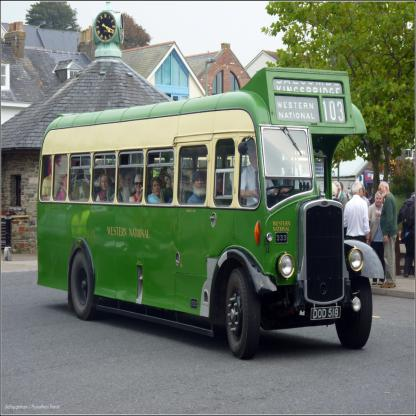Bus: (35, 64, 382, 362)
